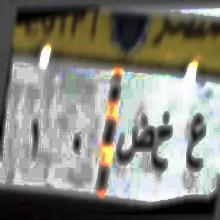0: (67, 130, 86, 161)
1: (27, 111, 43, 170)
ain: (185, 115, 206, 179)
daad: (114, 109, 153, 167)
khaa: (154, 107, 172, 175)
